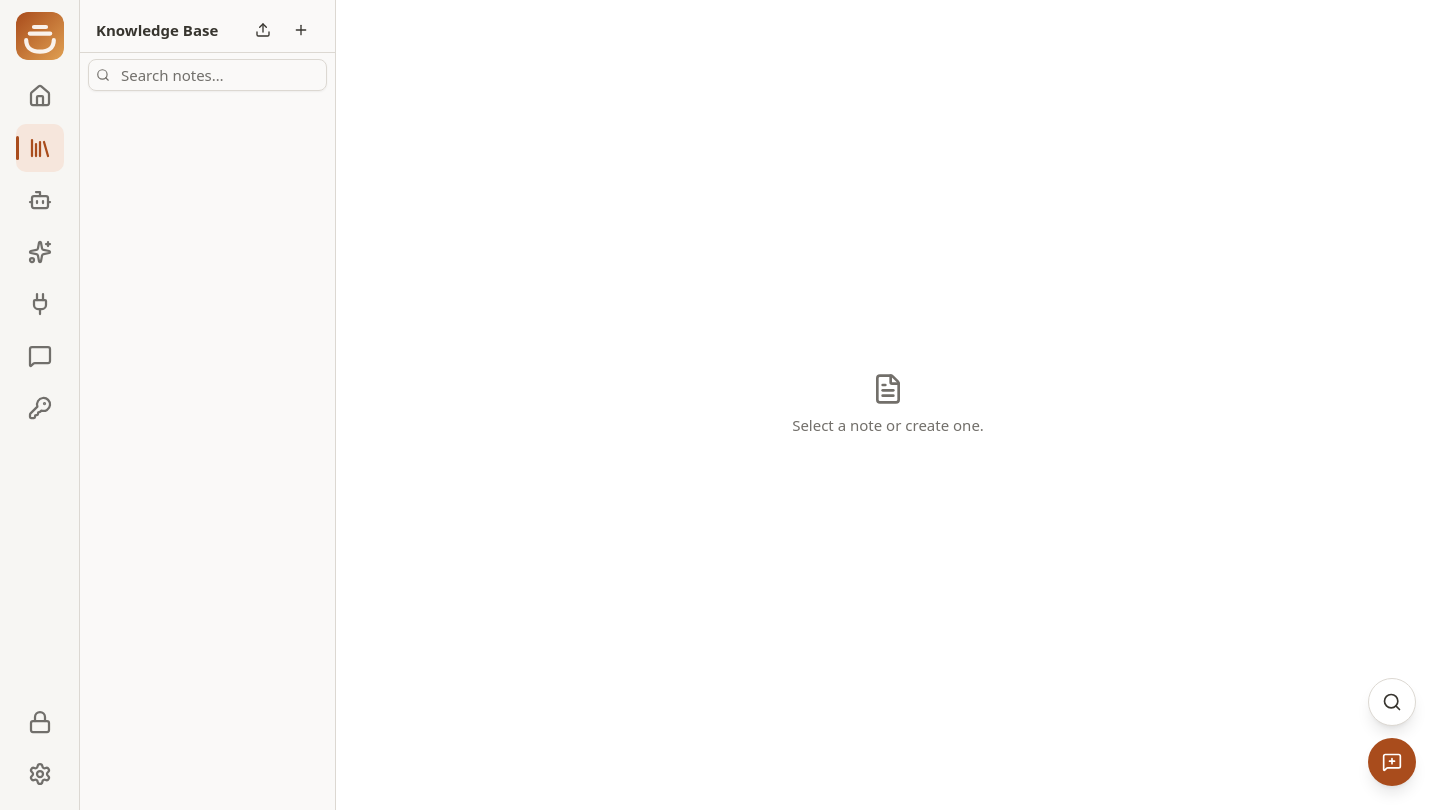
clicking a search hit navigates KBPage to that note
The image size is (1440, 810).
Type "dentist" into the field with placeholder "Search notes…". click: [208, 75]
box: [88, 59, 327, 91]
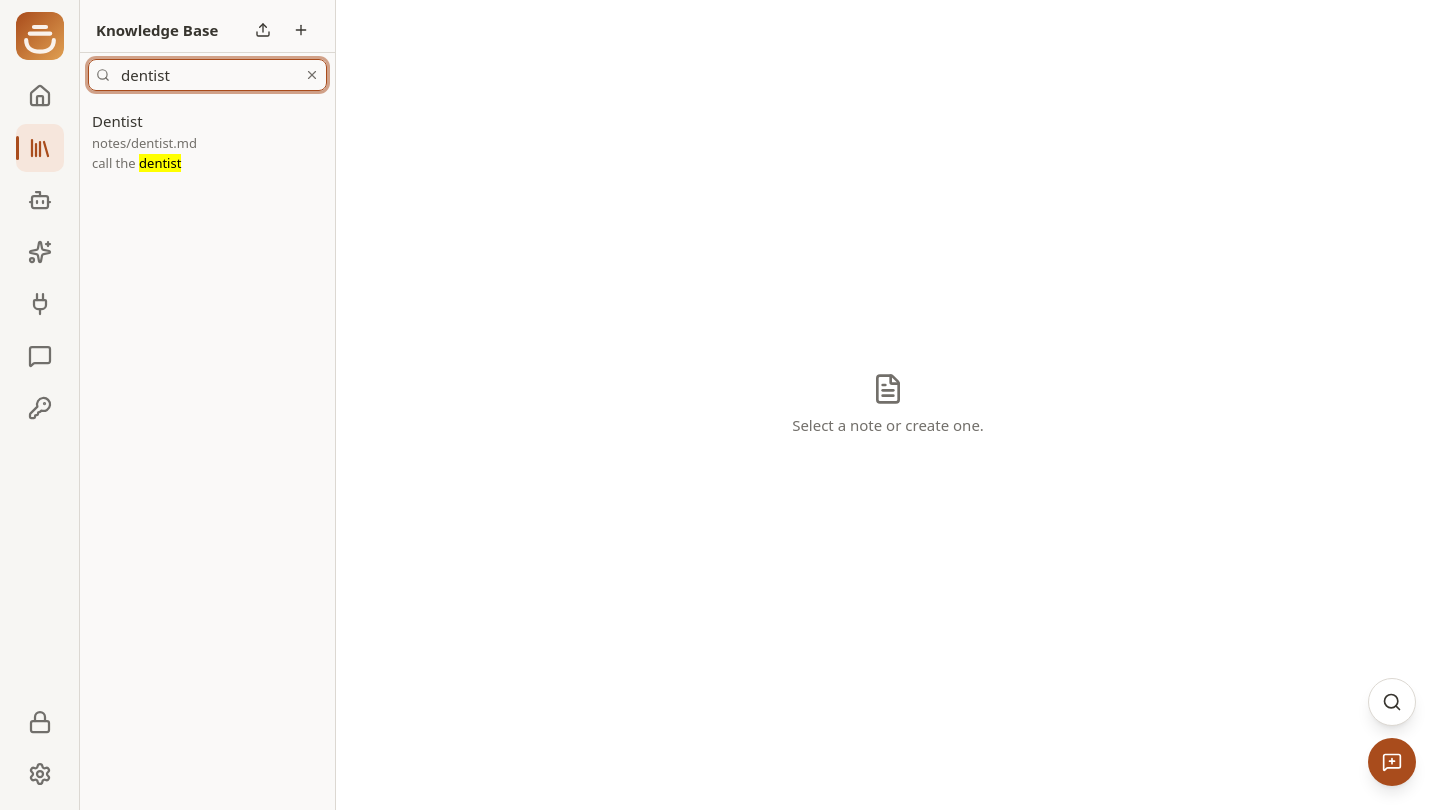
Click the button "Dentist notes/dentist.md call the dentist". click: [208, 141]
box: [84, 101, 331, 181]
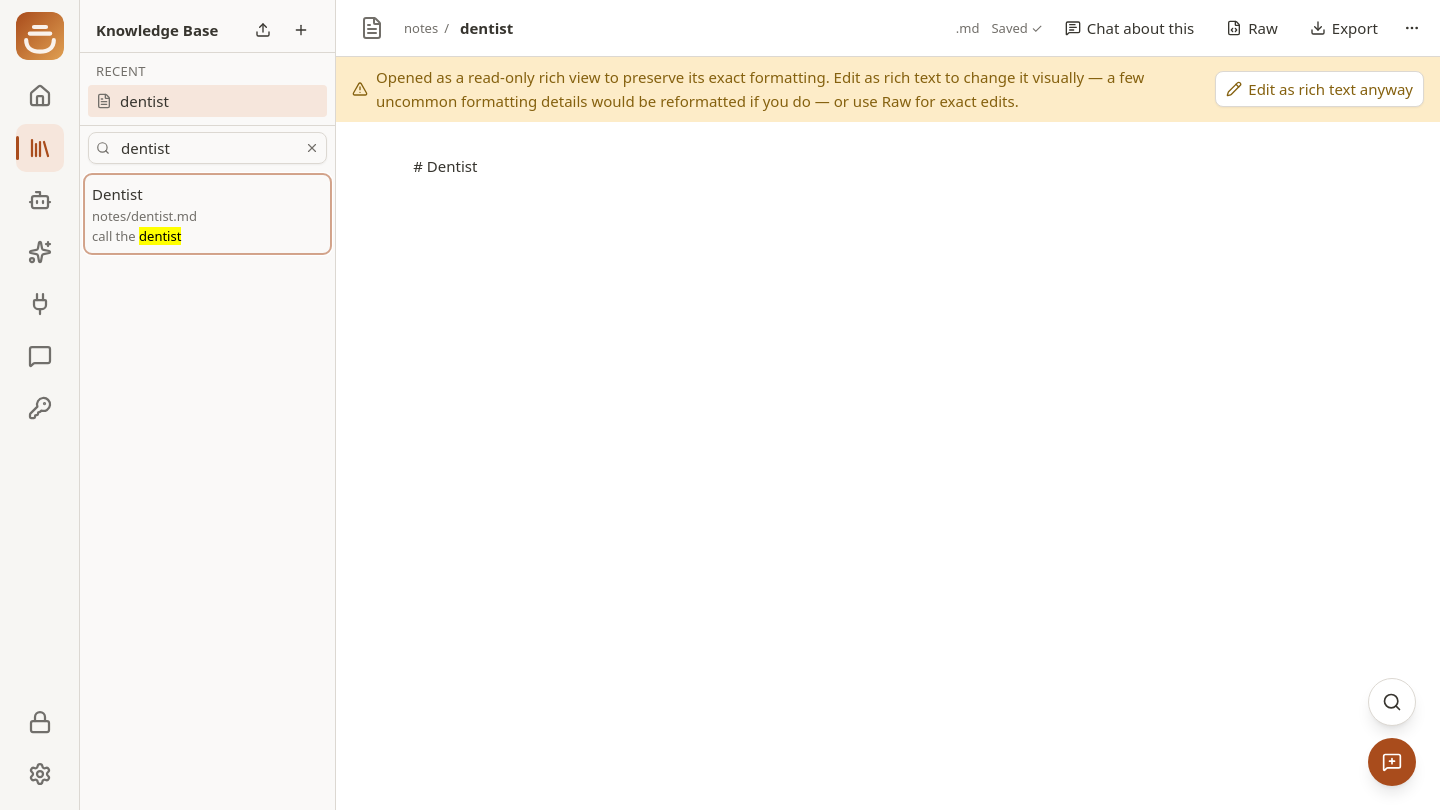
Expected: the field named "note" is shown, [455, 15, 950, 41]
